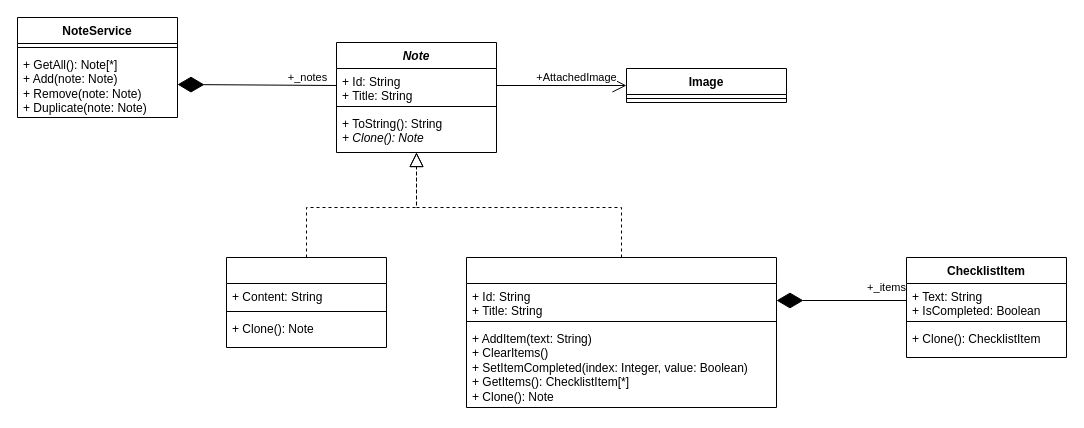
Some shapes in this 1084 by 428 pixel diagram are drawn without their labels. The box of each missing label's shape, as (x1, y1, x2, y2) in pixels:
ChecklistNote: (466, 256, 776, 408)
TextNote: (226, 256, 386, 348)
